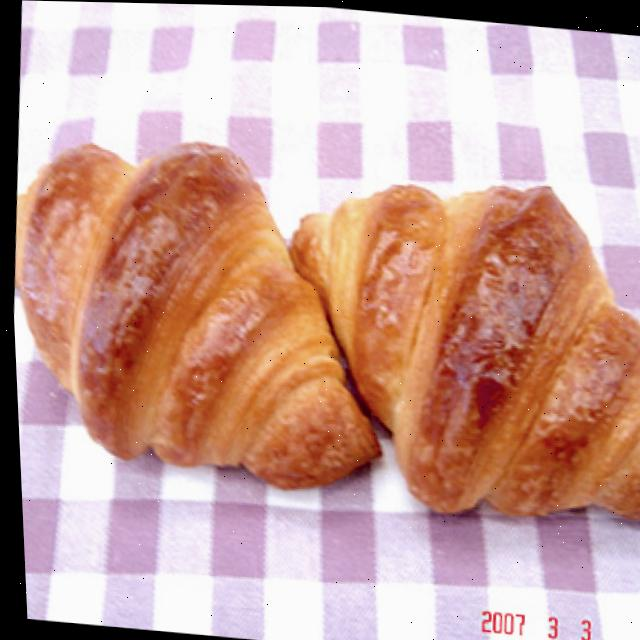面包点心: (4, 102, 640, 549)
